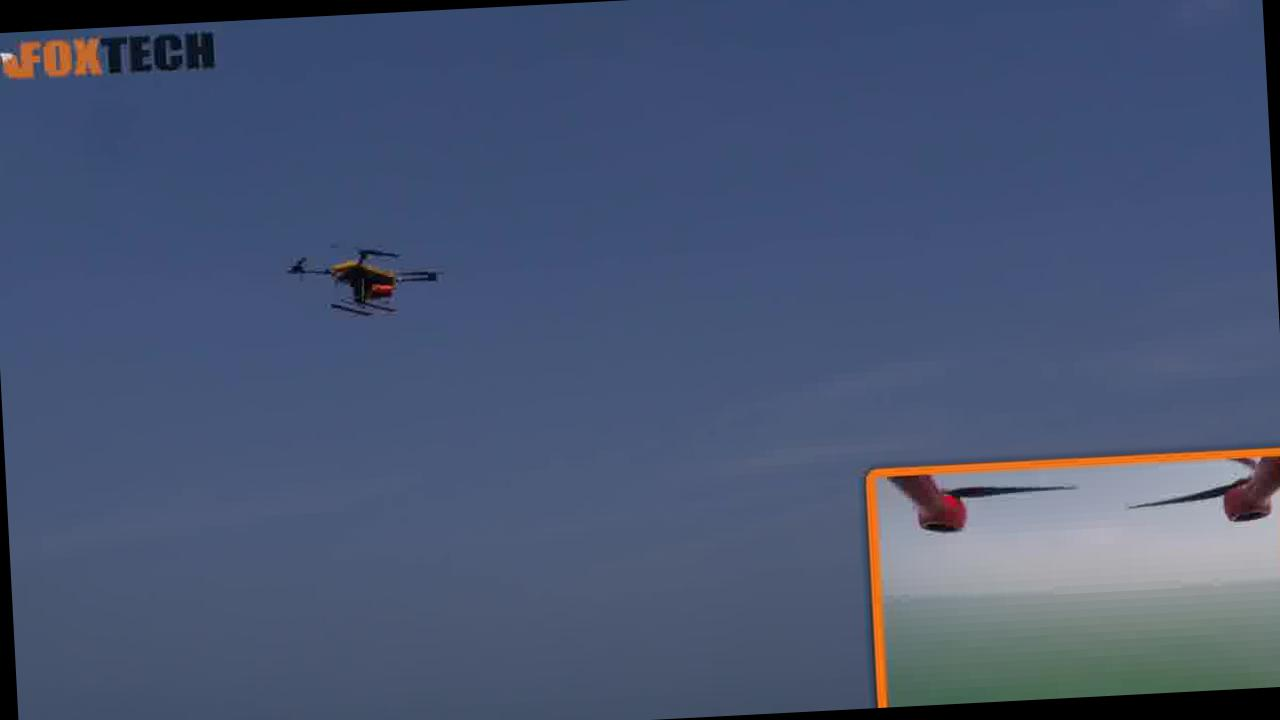drone: (270, 223, 454, 340)
